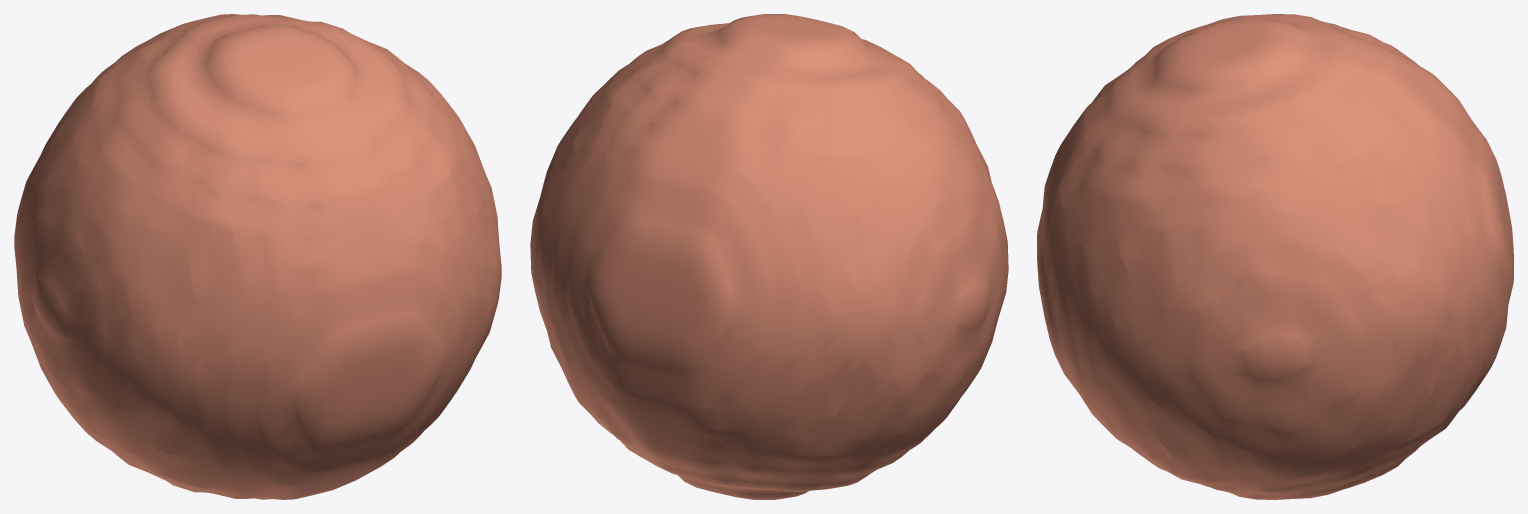
Rendered from exam-sphere-seg.glb.
The picture shows the model from 3 angles, left to right: view 1: azimuth 30°, elevation 25°; view 2: azimuth 150°, elevation 25°; view 3: azimuth 270°, elevation 25°; orthographic projection.
Visible parts, largest first — view 1: Esfera; view 2: Esfera; view 3: Esfera.
Part boxes in pixels (x1,y1,x2,y2): Esfera: (14, 14, 501, 499); Esfera: (530, 14, 1008, 499); Esfera: (1037, 14, 1513, 499).
Bounding box in the file's own units: 40.29 × 40.75 × 39.71.
